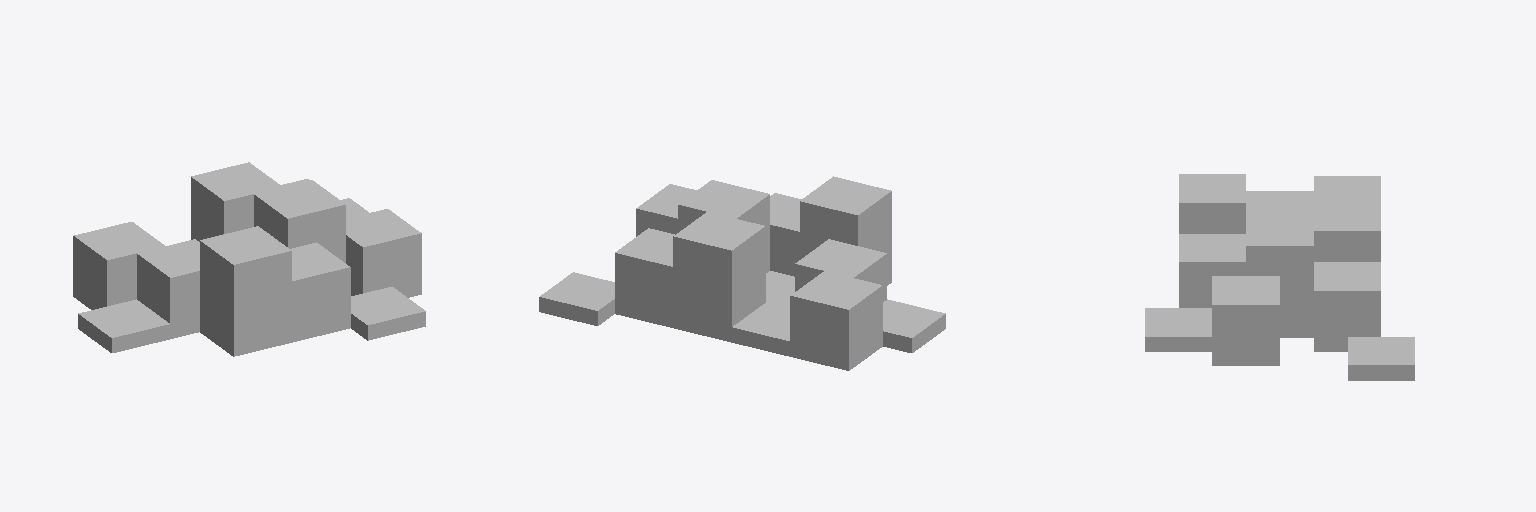
File: floor.obj
3 views of the same model, side by side, from view 1: azimuth 30°, elevation 25°; view 2: azimuth 150°, elevation 25°; view 3: azimuth 270°, elevation 25° (orthographic).
Visible parts, largest first — view 1: Cube.007, Cube.012, Cube.003, Cube.001, Cube.008, Cube.002, Cube.004, Cube.006, Cube.009; view 2: Cube.004, Cube.003, Cube.007, Cube.011, Cube.001, Cube.010, Cube.002, Cube.006, Cube.008, Cube.005, Cube.012, Cube; view 3: Cube.001, Cube.012, Cube.011, Cube.007, Cube.004, Cube.008, Cube.009, Cube.010, Cube.003, Cube.002.
Part boxes in pixels (x1,y1,x2,y2): Cube.007: (200, 226, 291, 356); Cube.012: (346, 209, 421, 297); Cube.003: (73, 222, 164, 309); Cube.001: (254, 180, 345, 262); Cube.008: (290, 242, 350, 342); Cube.002: (137, 239, 199, 338); Cube.004: (191, 162, 281, 241); Cube.006: (78, 299, 169, 352); Cube.009: (351, 287, 425, 340); Cube.004: (673, 212, 765, 342); Cube.003: (790, 271, 882, 370); Cube.007: (800, 176, 891, 285); Cube.011: (615, 228, 674, 327); Cube.001: (678, 180, 769, 272); Cube.010: (539, 272, 614, 325); Cube.002: (795, 239, 886, 301); Cube.006: (883, 299, 945, 352); Cube.008: (770, 193, 801, 276); Cube.005: (732, 303, 789, 356); Cube.012: (636, 184, 696, 236); Cube: (766, 271, 794, 307); Cube.001: (1246, 217, 1313, 337); Cube.012: (1212, 276, 1279, 365); Cube.011: (1314, 262, 1380, 351); Cube.007: (1179, 174, 1245, 233); Cube.004: (1314, 203, 1380, 261); Cube.008: (1179, 234, 1245, 307); Cube.009: (1145, 308, 1211, 351); Cube.010: (1348, 337, 1414, 380); Cube.003: (1314, 176, 1380, 202); Cube.002: (1246, 191, 1313, 216).
Bounding box in the file's own units: 11 × 3 × 8.